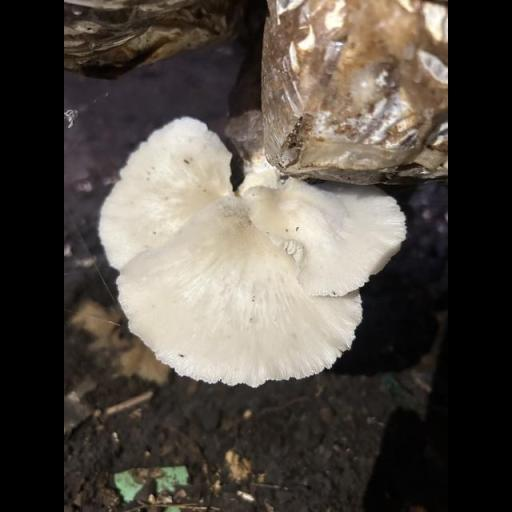White Oyster Mushroom: (101, 115, 410, 389)
